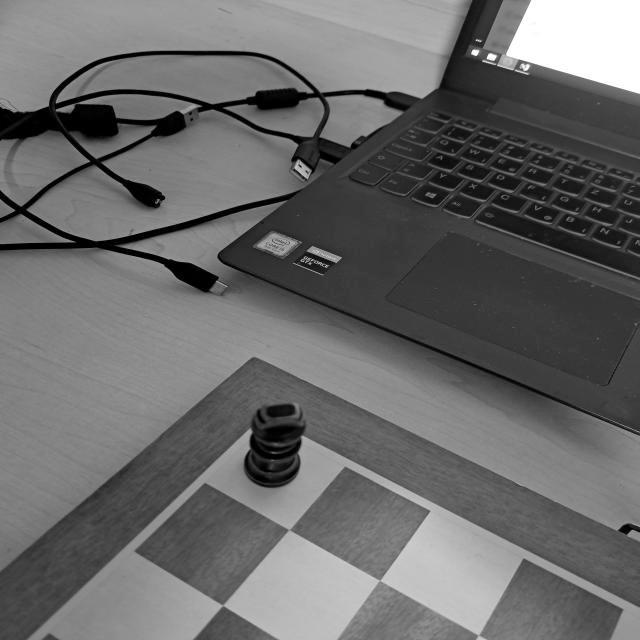chess-table-corners: (211, 407, 329, 465)
